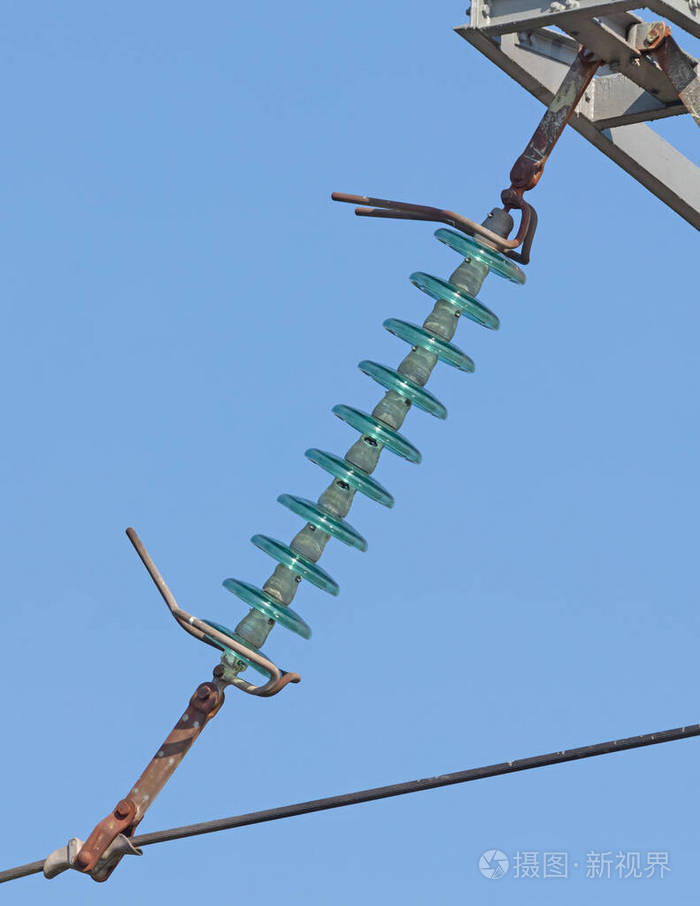insulator: (235, 226, 525, 637)
